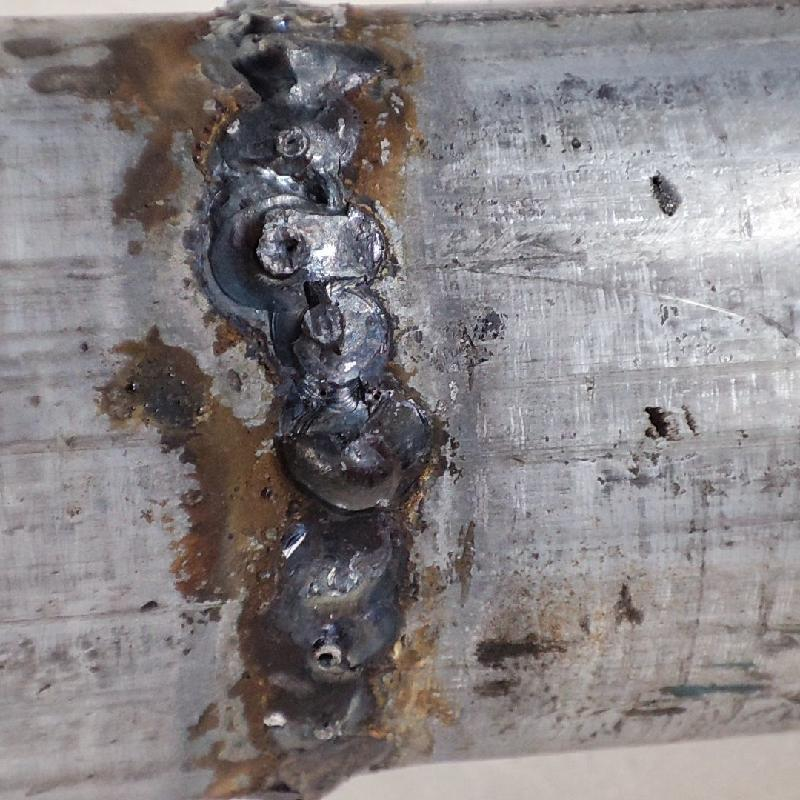Surface_pores: (306, 628, 362, 683), (264, 222, 306, 265)
Weld: (278, 426, 410, 513)
wrong_size: (191, 0, 434, 766)
